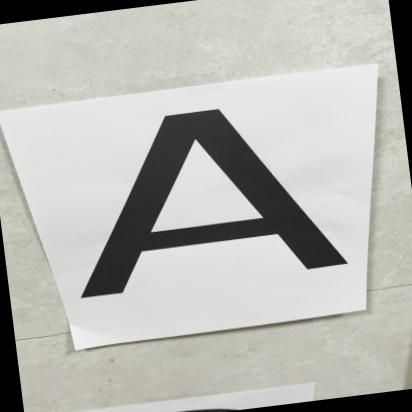seat: (44, 85, 373, 316)
